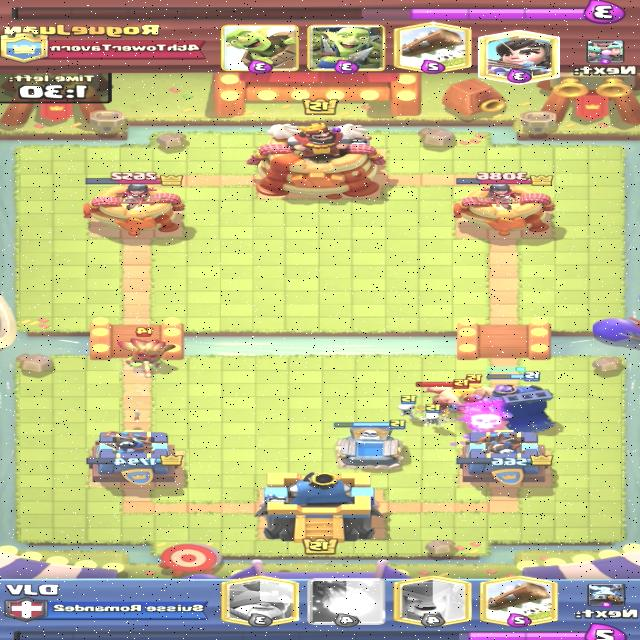Enemy-Barbarian: (415, 380, 475, 419), (461, 374, 504, 407)
Enemy-DartGoblin: (118, 327, 180, 378)
Player-Skeleton: (392, 394, 427, 418), (420, 405, 455, 428)
Player-SkeletonKing: (465, 366, 579, 433)
Player-Tombstone: (331, 419, 408, 470)
